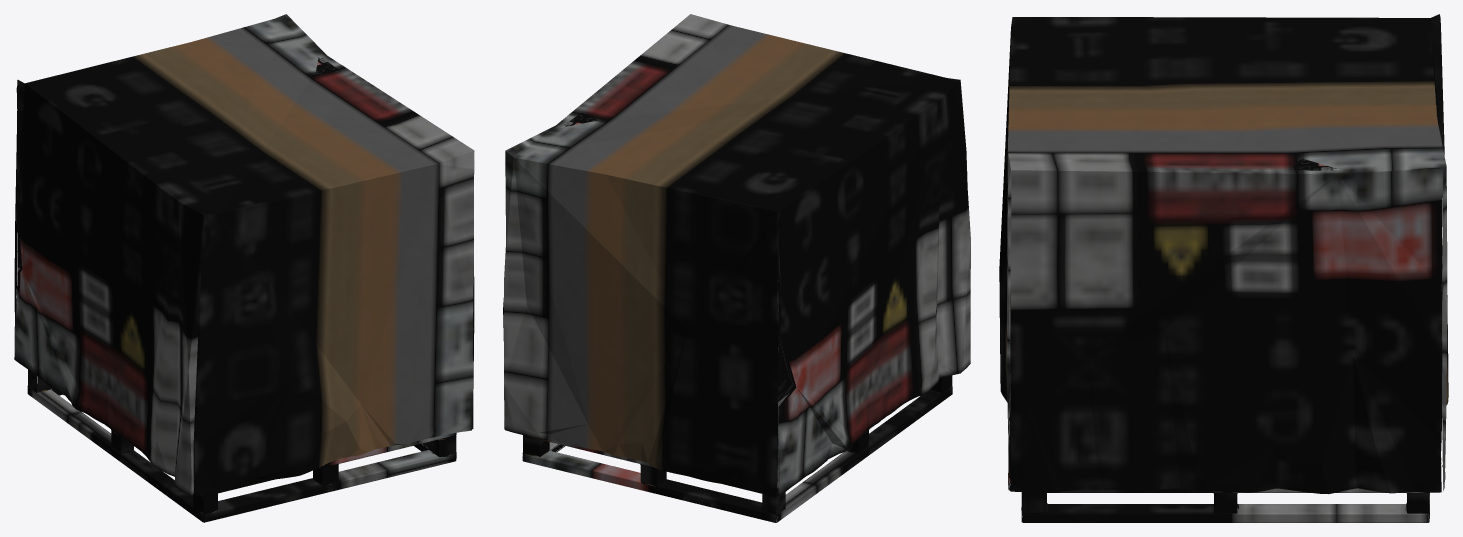
File: pallet_assembly_d01.glb
3 views of the same model, side by side, from view 1: azimuth 30°, elevation 25°; view 2: azimuth 150°, elevation 25°; view 3: azimuth 270°, elevation 25° (orthographic). The views are drawn at different scales.
Visible parts, largest first — view 1: geometry_0; view 2: geometry_0; view 3: geometry_0.
Part boxes in pixels (x1=…): geometry_0: x1=14, y1=14, x2=474, y2=522; geometry_0: x1=503, y1=14, x2=970, y2=522; geometry_0: x1=999, y1=14, x2=1448, y2=522.
Bounding box in the file's own units: 0.36 × 0.375 × 0.42.
1 material, 1 textured.
